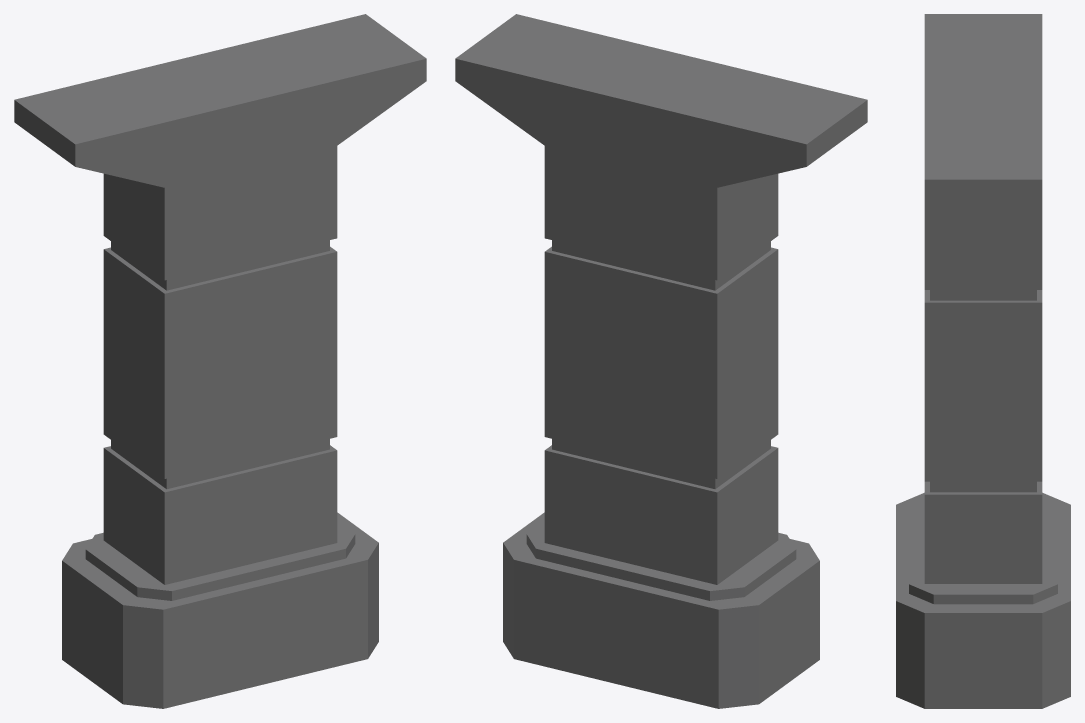
The model's file is SM_pillar_03_001.glb.
3 renders of one model, left to right at view 1: azimuth 30°, elevation 25°; view 2: azimuth 150°, elevation 25°; view 3: azimuth 270°, elevation 25°, orthographic. The views are drawn at different scales.
Visible parts, largest first — view 1: SM_pillar_03.001; view 2: SM_pillar_03.001; view 3: SM_pillar_03.001.
Boxes of the visible parts, left/top/right/bottom form: SM_pillar_03.001: left=14, top=14, right=426, bottom=708; SM_pillar_03.001: left=455, top=14, right=867, bottom=708; SM_pillar_03.001: left=896, top=14, right=1070, bottom=708.
Bounding box in the file's own units: 1.84 × 2.86 × 0.8198.
Materials: 1 (1 with a texture image).
